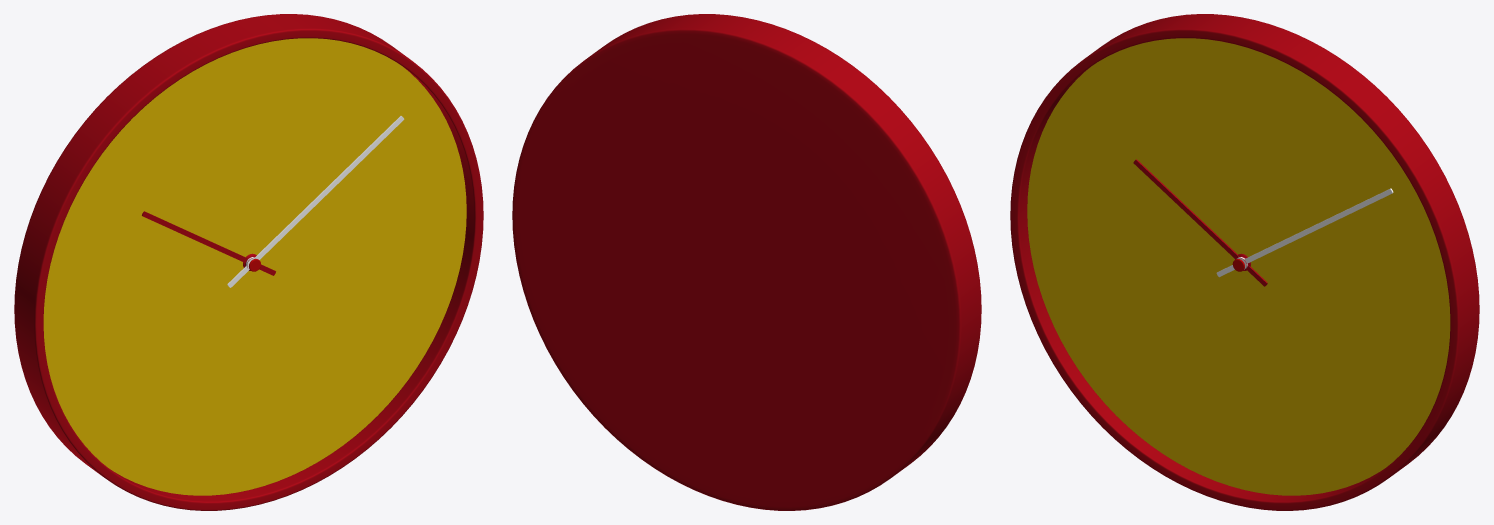
The model's file is saat003.fbx.
The picture shows the model from 3 angles, left to right: view 1: azimuth 30°, elevation 25°; view 2: azimuth 150°, elevation 25°; view 3: azimuth 330°, elevation 25°; orthographic projection.
Parts seen in each view (by area): view 1: Cylinder002.001, MetalRim, arrow001, arrow002; view 2: MetalRim; view 3: Cylinder002.001, MetalRim, arrow001, arrow002.
Boxes of the visible parts, box(x1,y1,x2,y2) form: Cylinder002.001: box(43, 38, 466, 495); MetalRim: box(14, 14, 483, 510); arrow001: box(227, 116, 404, 287); arrow002: box(142, 211, 275, 275); MetalRim: box(512, 14, 981, 510); Cylinder002.001: box(1027, 38, 1450, 495); MetalRim: box(1010, 14, 1479, 510); arrow001: box(1216, 188, 1393, 277); arrow002: box(1133, 159, 1267, 286).
Bounding box in the file's own units: 36.28 × 36.28 × 3.05.
